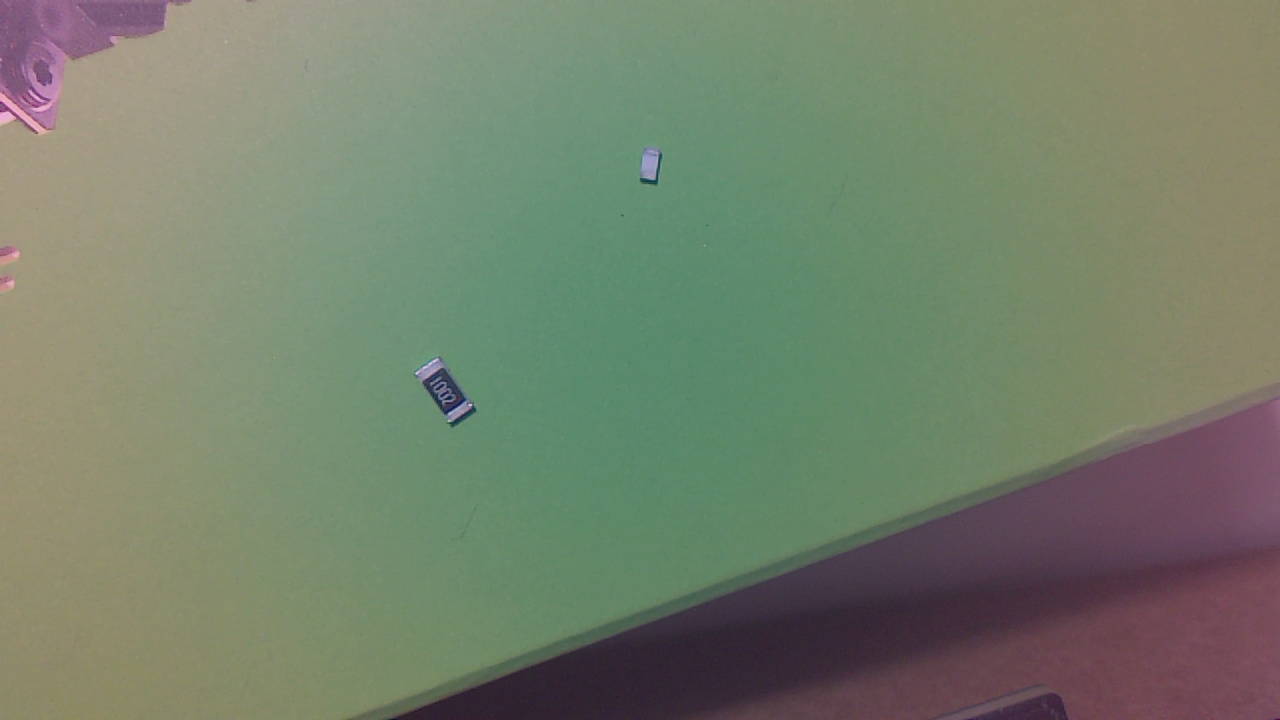Resistor: (416, 360, 483, 432)
